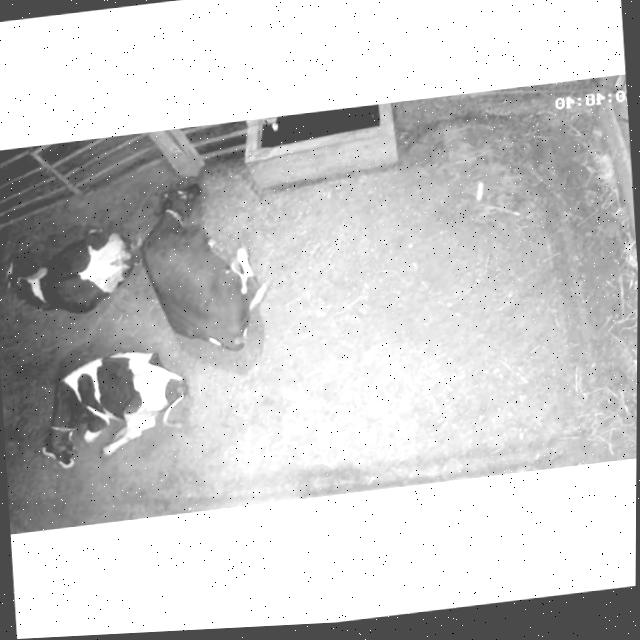lay: (135, 168, 279, 365), (24, 340, 199, 478), (0, 213, 140, 329)
